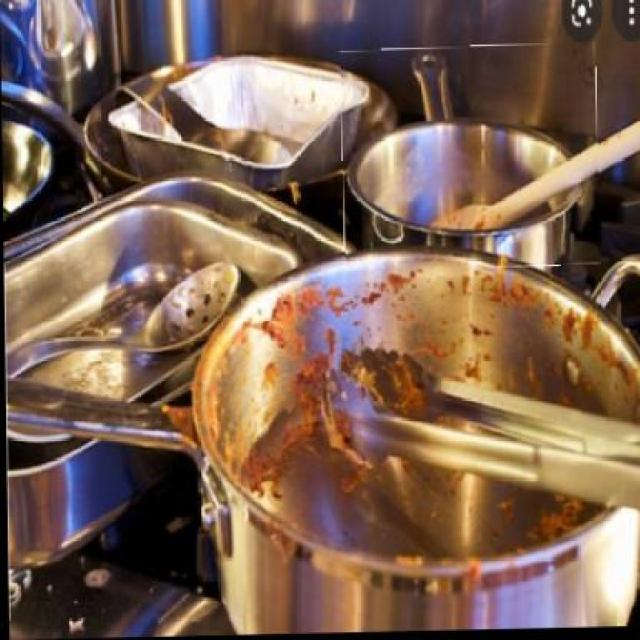pot: (3, 254, 639, 621), (340, 46, 600, 274)
